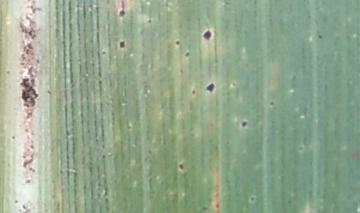tarspot: (202, 30, 213, 42), (206, 82, 216, 94), (118, 40, 127, 49), (177, 162, 185, 170), (240, 120, 248, 127), (184, 51, 191, 59), (119, 9, 125, 17), (145, 19, 155, 23), (178, 68, 184, 74), (190, 90, 197, 95), (175, 40, 180, 46), (9, 135, 15, 140), (249, 196, 254, 202), (269, 101, 274, 106), (318, 34, 323, 39), (298, 145, 303, 150), (6, 69, 9, 76), (14, 199, 18, 203)
